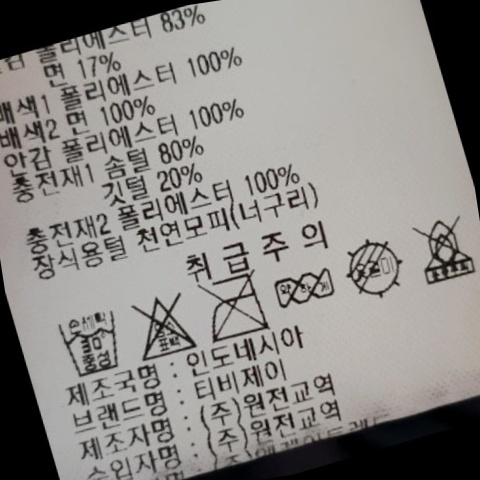DN_iron: (193, 267, 275, 349)
hand_wash: (55, 301, 135, 384)
line_dry_in_shade: (340, 230, 415, 306)
non_chlorine_bleach: (123, 278, 206, 366)
wring: (269, 258, 345, 314)
